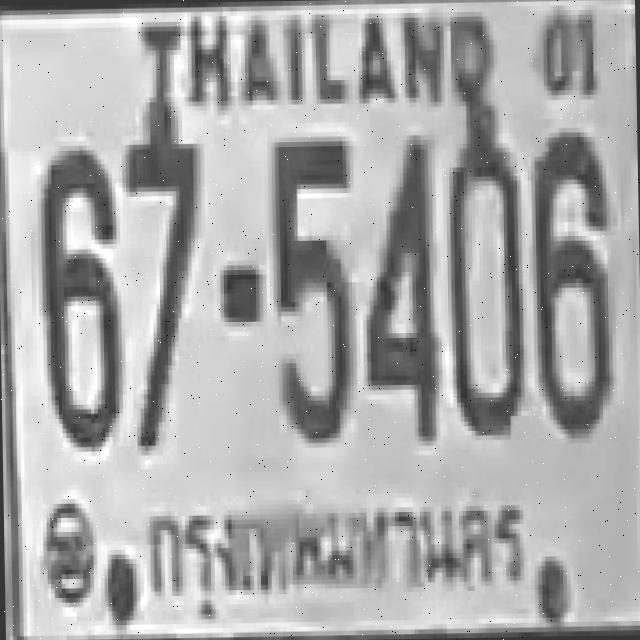0: (445, 130, 521, 432)
4: (360, 132, 436, 434)
5: (269, 136, 352, 438), (269, 134, 350, 314)
6: (36, 147, 119, 449), (530, 126, 610, 434)
Bangkok: (140, 484, 530, 608)
